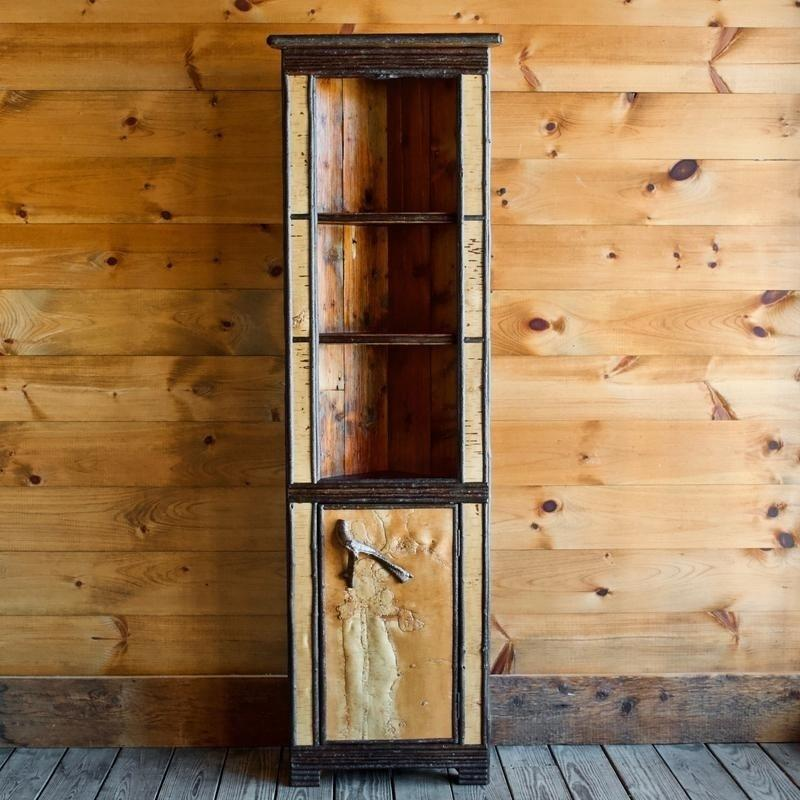cabinet_door: (291, 498, 473, 754)
